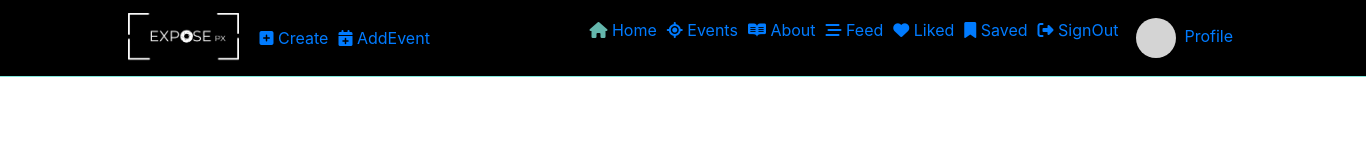
Scenario: renders Sign in and Sign up buttons again on log out
The image size is (1366, 160).
Step 1. Click the link "SignOut" → (1078, 30), box [1038,20,1118,40]
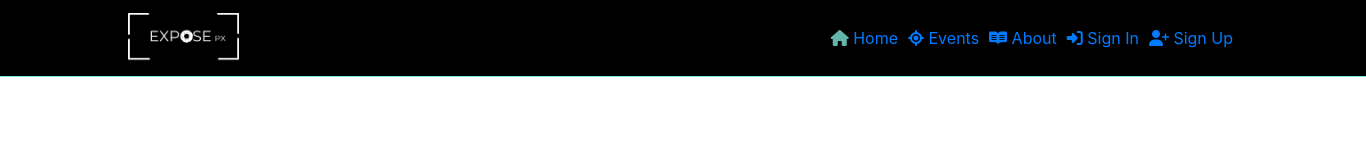
Now the link "Sign In" is shown, box [1067,28,1139,48]
Now the link "Sign Up" is shown, box [1149,28,1233,48]
